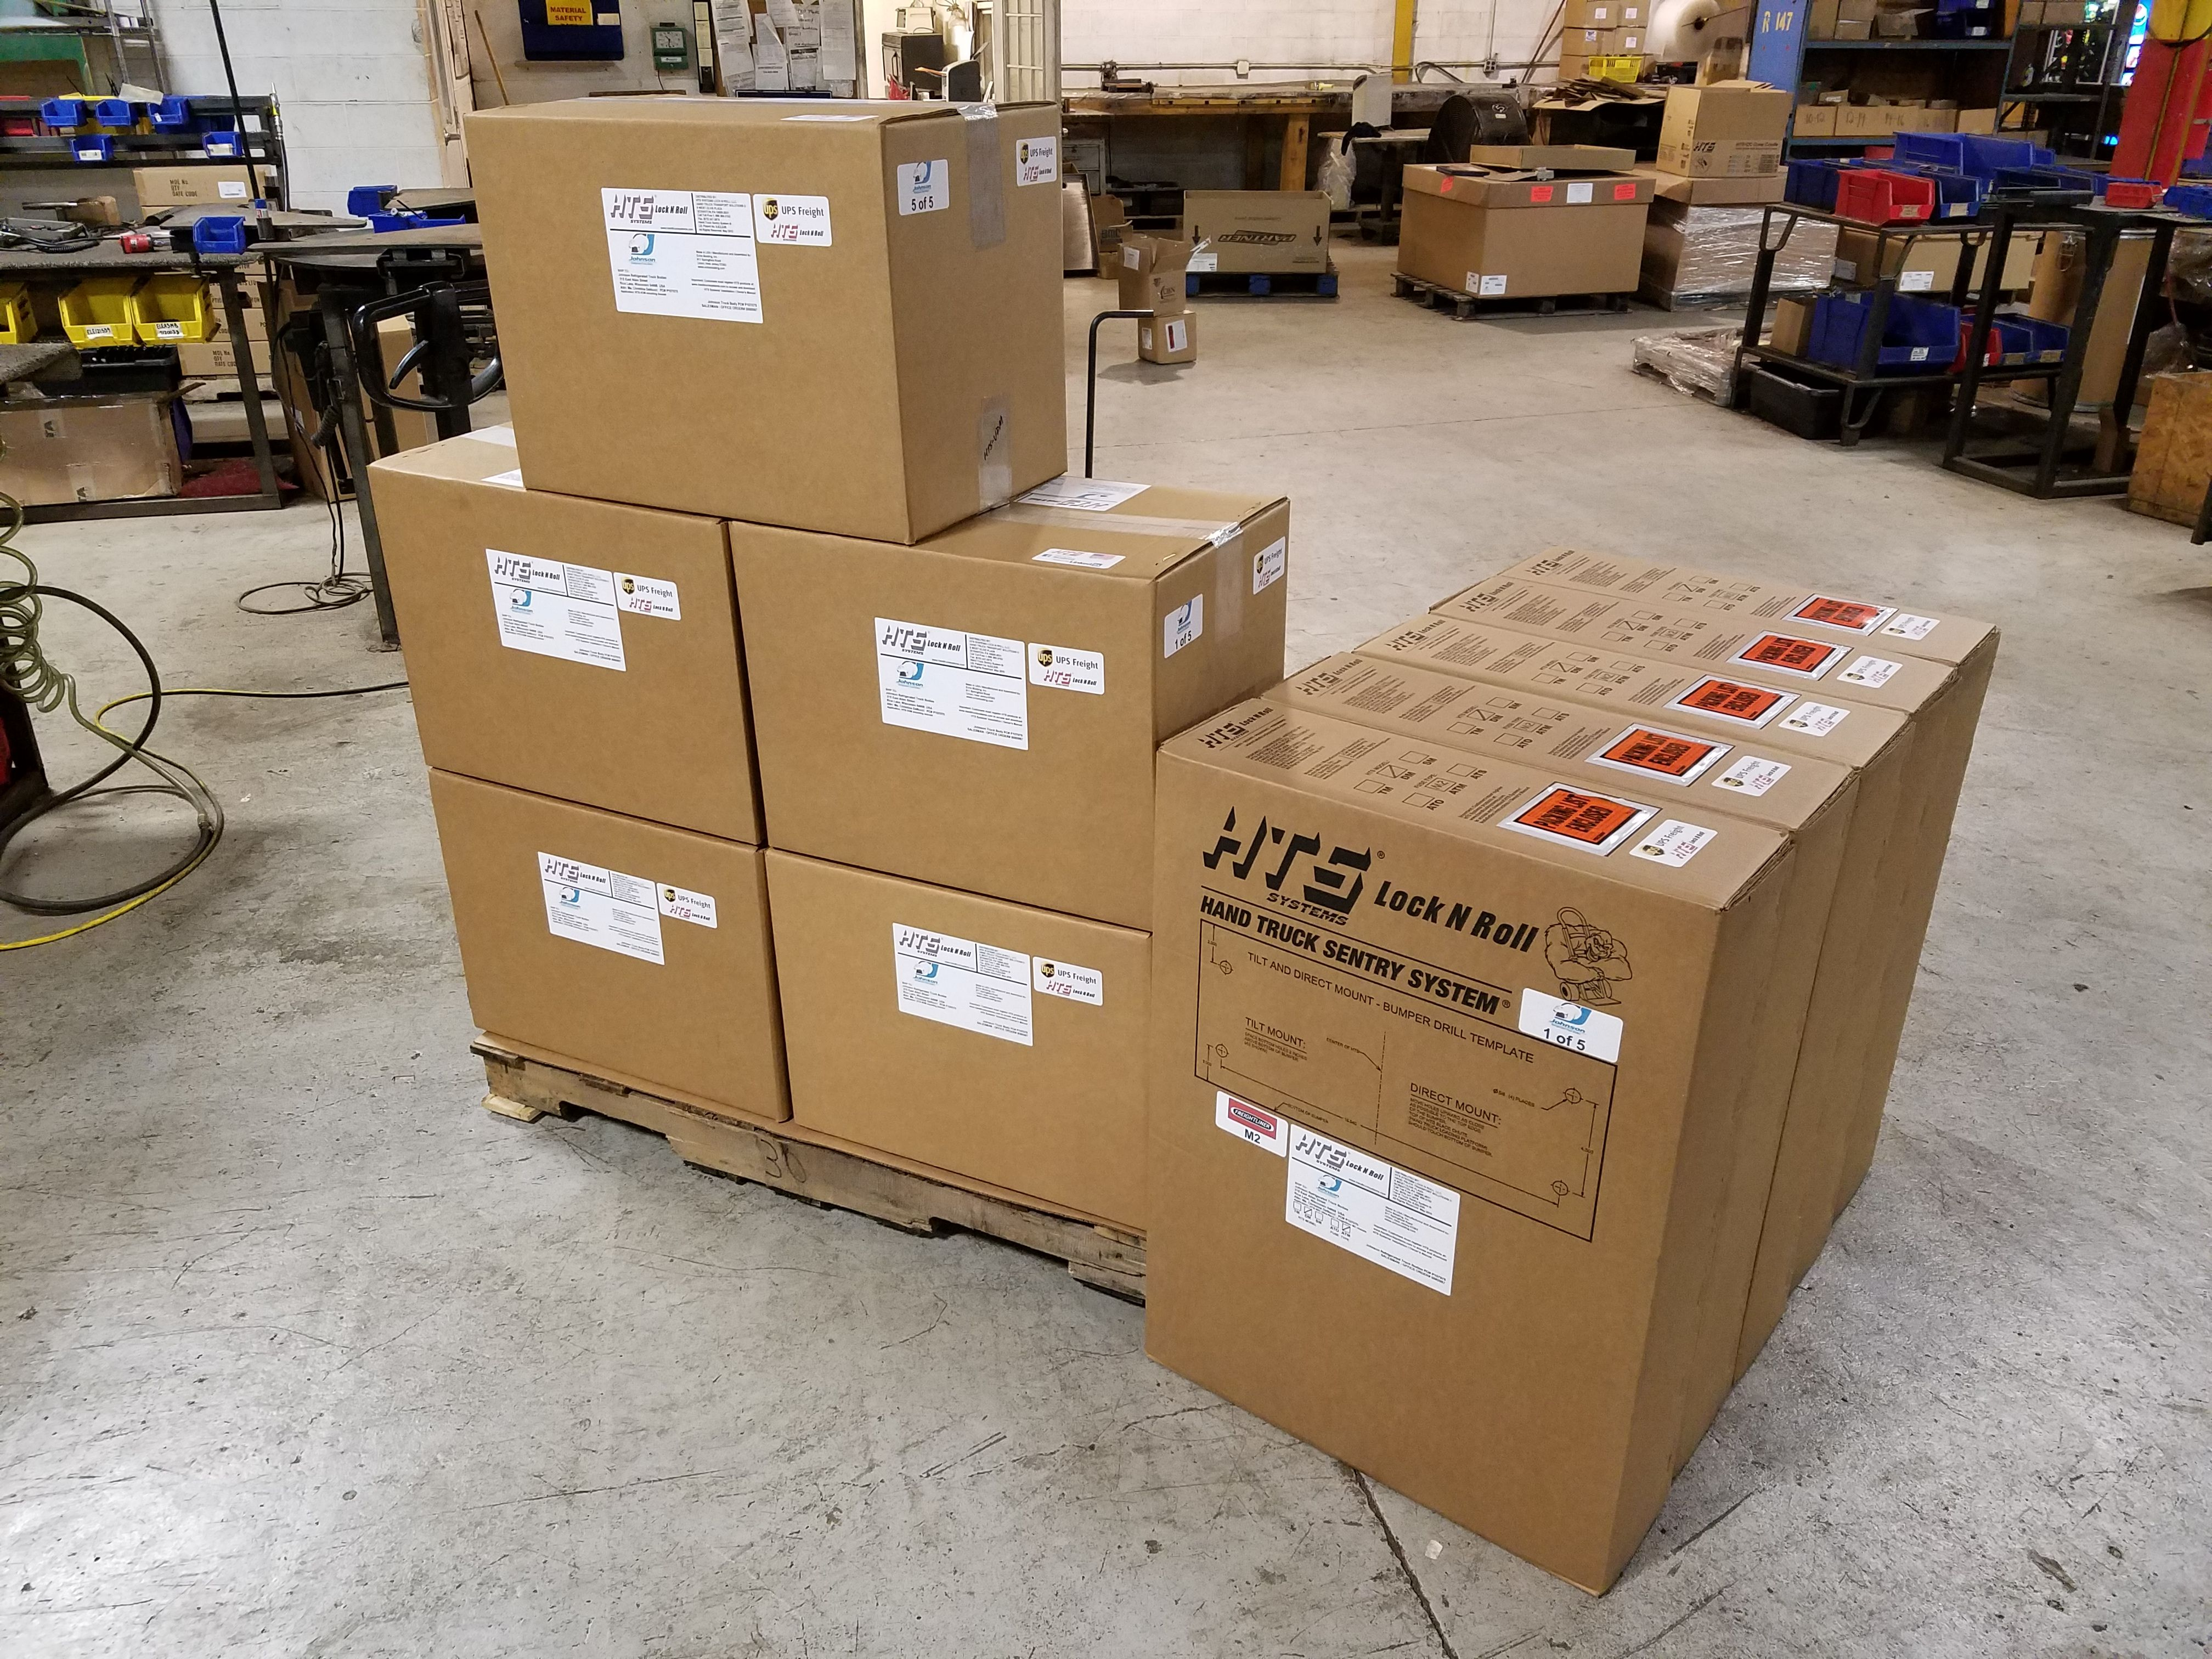box: (1160, 763, 1789, 1589), (472, 112, 1083, 533), (772, 532, 1211, 925)
box_label: (1197, 1065, 1480, 1337), (848, 579, 1129, 795), (603, 178, 852, 356), (514, 830, 738, 1007)
pallet: (477, 1030, 1146, 1323)
